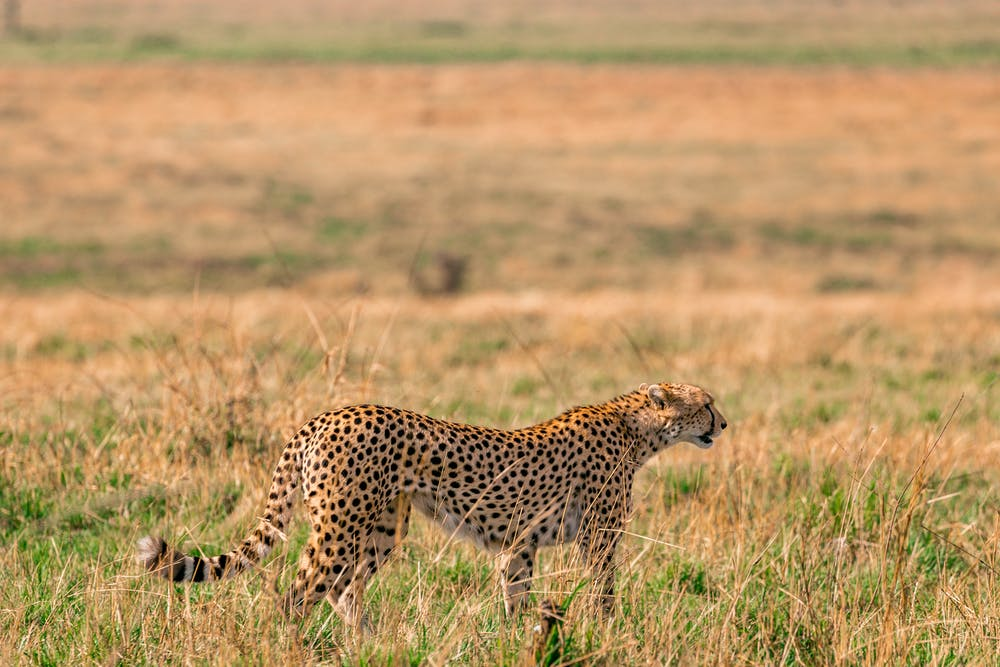cheetah: (630, 363, 732, 464)
